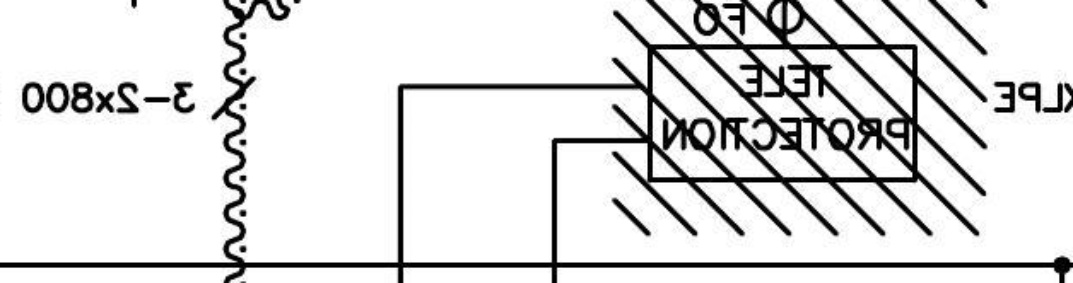tele_protection: (643, 40, 922, 187)
